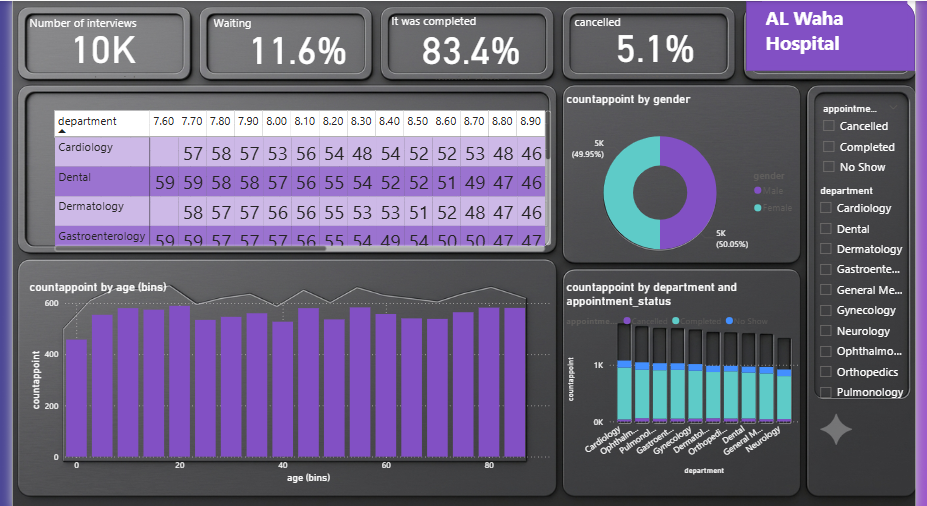

What the dashboard file says about the page in this screenshot:
{"tool":"powerbi","page":{"name":"Page 1","canvas":[1280,720],"ordinal":0},"visuals":[{"type":"card","fields":{"Values":["smart_hospital_appointment_dataset.countappoint"]},"box":[72.3,32.6,113.4,80.8],"z":1000},{"type":"card","fields":{"Values":["smart_hospital_appointment_dataset.total_state"]},"box":[327.4,41.1,154.5,65.2],"z":2000},{"type":"card","fields":{"Values":["smart_hospital_appointment_dataset.appoint_state_2"]},"box":[572.6,31.2,155.9,85],"z":3000},{"type":"card","fields":{"Values":["smart_hospital_appointment_dataset.total_state_3"]},"box":[829.1,28.3,163,85],"z":4000},{"type":"columnChart","fields":{"Category":["smart_hospital_appointment_dataset.department"],"Y":["smart_hospital_appointment_dataset.countappoint"],"Series":["smart_hospital_appointment_dataset.appointment_status"]},"box":[780.9,395.4,338.7,280.6],"z":6000},{"type":"pivotTable","fields":{"Rows":["smart_hospital_appointment_dataset.department"],"Values":["smart_hospital_appointment_dataset.avrage_waite"],"Columns":["smart_hospital_appointment_dataset.patient_satisfaction_score"]},"box":[55.3,150.2,714.3,209.8],"z":7000},{"type":"donutChart","fields":{"Category":["smart_hospital_appointment_dataset.gender"],"Y":["smart_hospital_appointment_dataset.countappoint"]},"box":[780.9,129,340.2,266.5],"z":8000},{"type":"clusteredColumnChart","fields":{"Category":["smart_hospital_appointment_dataset.age (bins)"],"Y":["smart_hospital_appointment_dataset.countappoint"]},"box":[19.8,395.4,749.8,293.4],"z":9000},{"type":"slicer","fields":{"Values":["smart_hospital_appointment_dataset.appointment_status"]},"box":[1136.7,138.9,131.8,123.3],"z":10000},{"type":"slicer","fields":{"Values":["smart_hospital_appointment_dataset.department"]},"box":[1132.4,255.1,136.1,337.3],"z":11000},{"type":"shape","box":[1040.3,0,239.5,99.2],"z":12000},{"type":"textbox","box":[1063,0,205.5,92.1],"z":13000},{"type":"textbox","box":[19.8,14.2,216.9,35.4],"z":14000},{"type":"textbox","box":[280.6,14.2,209.8,35.4],"z":15000},{"type":"textbox","box":[532.9,11.3,215.4,35.4],"z":16000},{"type":"textbox","box":[792.3,12.8,214,35.4],"z":17000}]}

Visuals, with their boxes in screenshot pixels (x1, y1, x2, y2):
card - smart_hospital_appointment_dataset.countappoint: <bbox>50, 23, 131, 82</bbox>
card - smart_hospital_appointment_dataset.total_state: <bbox>233, 30, 345, 77</bbox>
card - smart_hospital_appointment_dataset.appoint_state_2: <bbox>410, 22, 522, 84</bbox>
card - smart_hospital_appointment_dataset.total_state_3: <bbox>594, 20, 712, 82</bbox>
columnChart - smart_hospital_appointment_dataset.department x smart_hospital_appointment_dataset.countappoint: <bbox>560, 285, 804, 487</bbox>
pivotTable - smart_hospital_appointment_dataset.department x smart_hospital_appointment_dataset.avrage_waite: <bbox>37, 108, 552, 259</bbox>
donutChart - smart_hospital_appointment_dataset.gender x smart_hospital_appointment_dataset.countappoint: <bbox>560, 93, 805, 285</bbox>
clusteredColumnChart - smart_hospital_appointment_dataset.age (bins) x smart_hospital_appointment_dataset.countappoint: <bbox>12, 285, 552, 496</bbox>
slicer - smart_hospital_appointment_dataset.appointment_status: <bbox>816, 100, 911, 189</bbox>
slicer - smart_hospital_appointment_dataset.department: <bbox>813, 184, 911, 426</bbox>
shape: <bbox>746, 0, 919, 71</bbox>
textbox: <bbox>763, 0, 911, 66</bbox>
textbox: <bbox>12, 10, 168, 36</bbox>
textbox: <bbox>200, 10, 351, 36</bbox>
textbox: <bbox>381, 8, 536, 34</bbox>
textbox: <bbox>568, 9, 722, 35</bbox>
